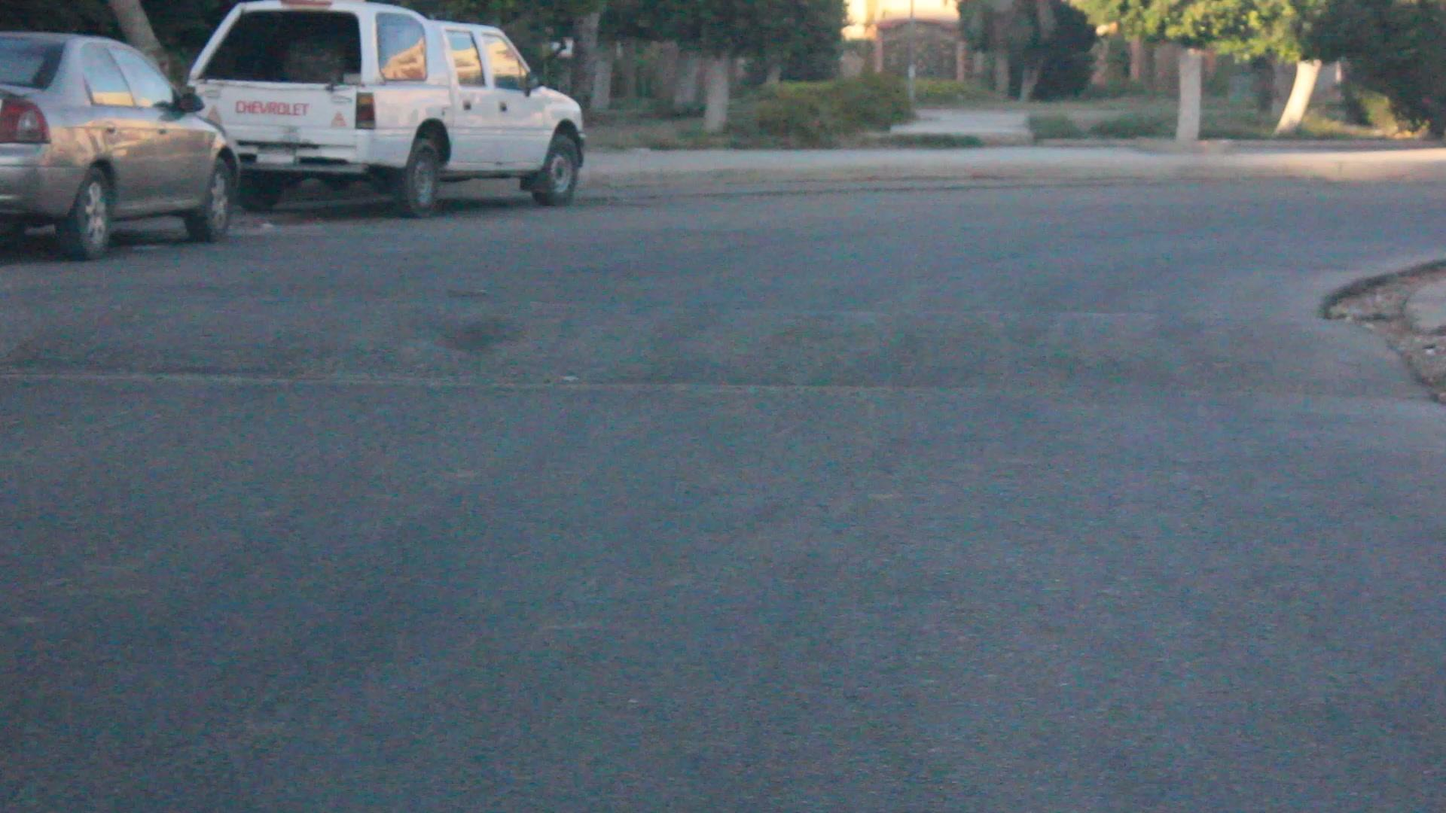Bump: (13, 275, 1405, 403)
Pothole: (1320, 241, 1446, 442)
